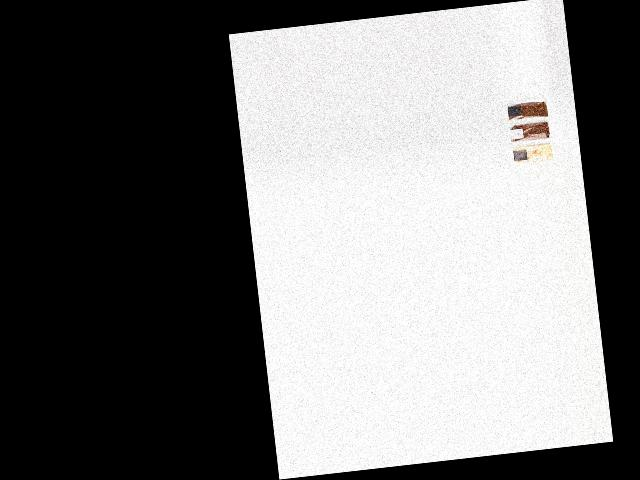chocolate: (507, 97, 549, 119)
